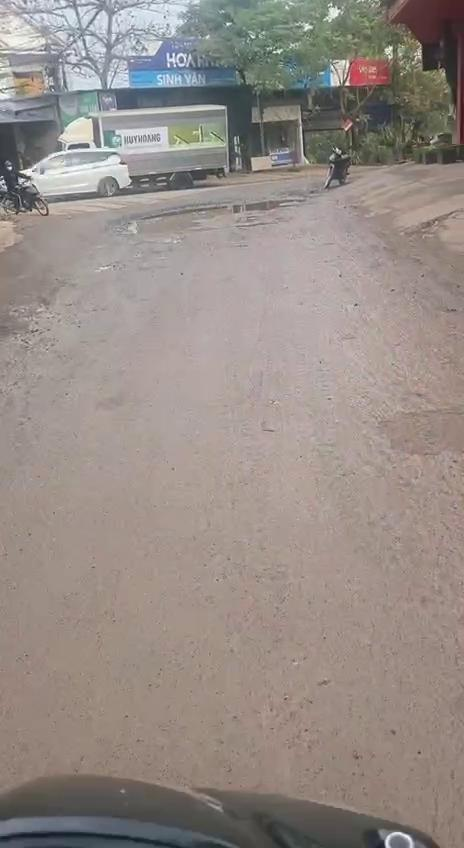pothole: (118, 194, 311, 244)
